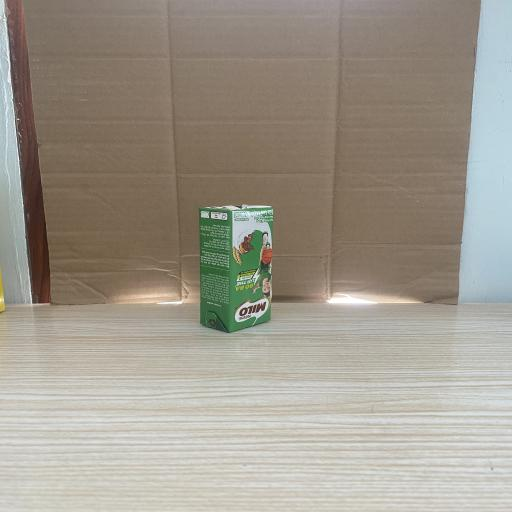milo: (198, 204, 274, 333)
